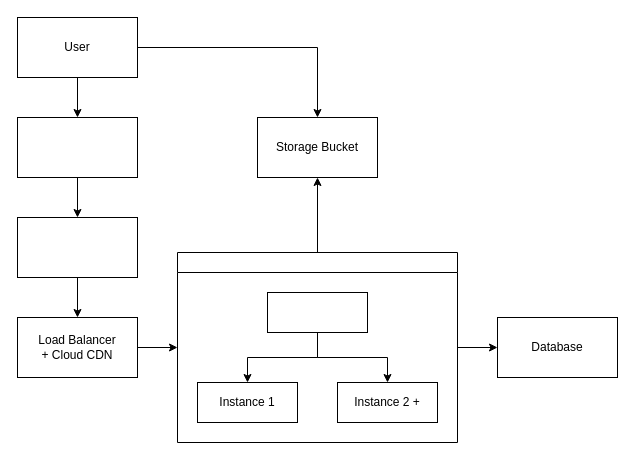
The diagram is 635 pixels wide and 460 high, and some of its shapes have lost their labels. Here are the shapes that lost their labels. From the top down, the centre of each, then its label:
point (77, 147): DNS
point (77, 247): Static IP
point (317, 312): Instance Group
